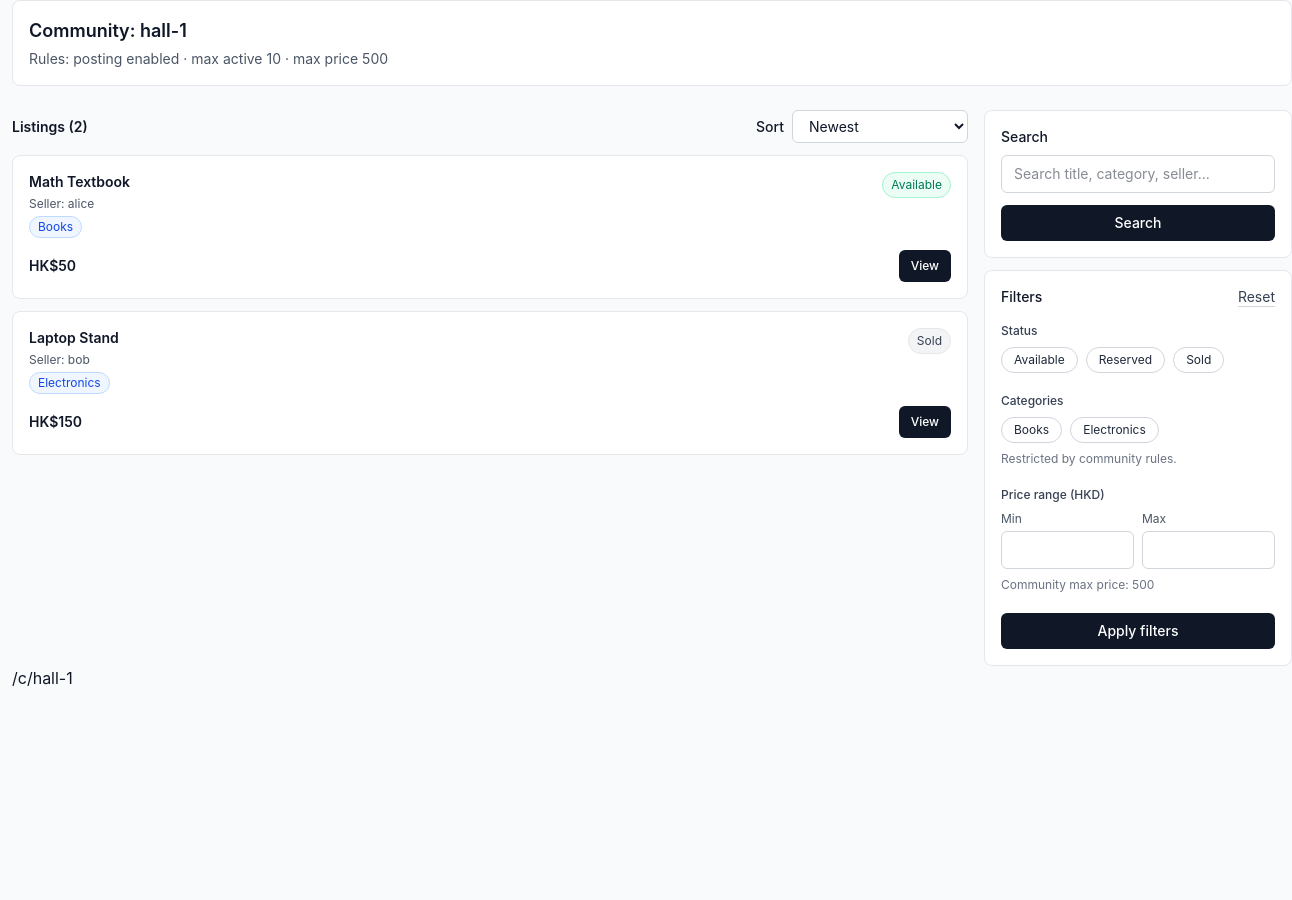
Test: HomePage › applies filters when Apply button clicked
Expected: the text "Math Textbook" is shown, [29,172,130,192]
Step 1. Type "100" into the number field labelled "Min" → (1068, 550), box [1001,531,1134,569]
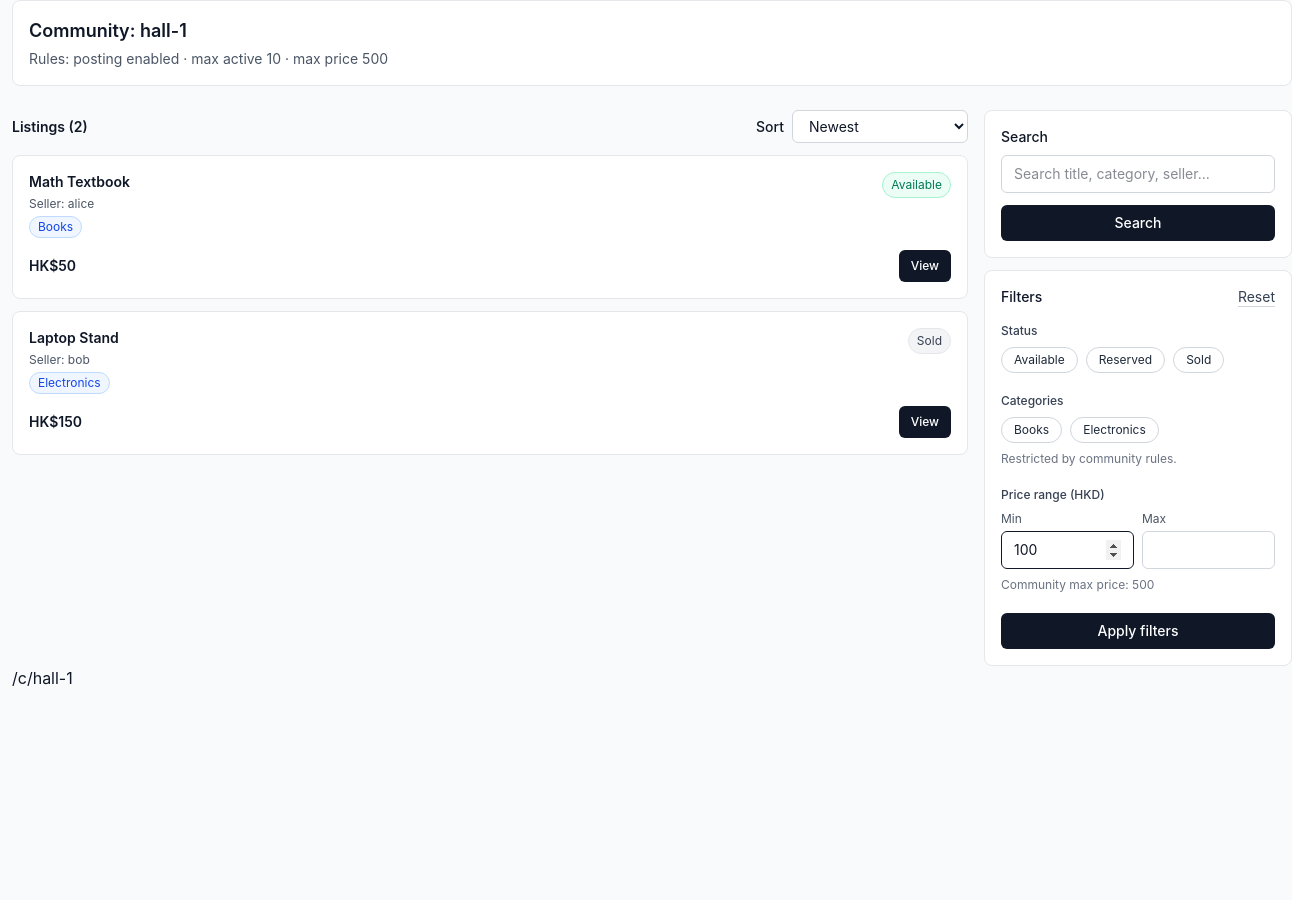
Step 2. Click the checkbox labelled "Available" → click(1039, 360), box [1001,347,1078,373]
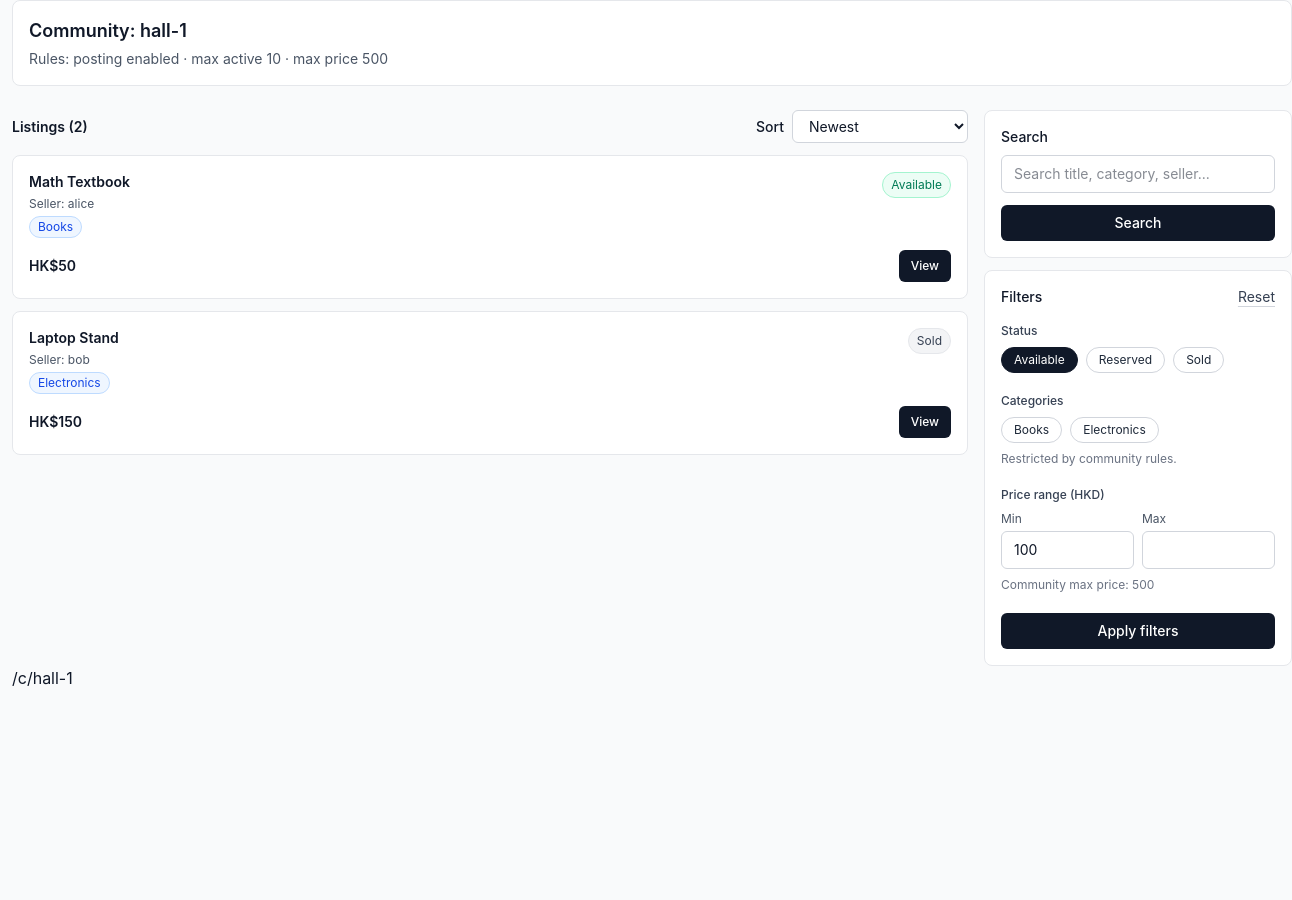
Step 3. Click the checkbox labelled "Books" → click(1032, 430), box [1001,417,1062,443]
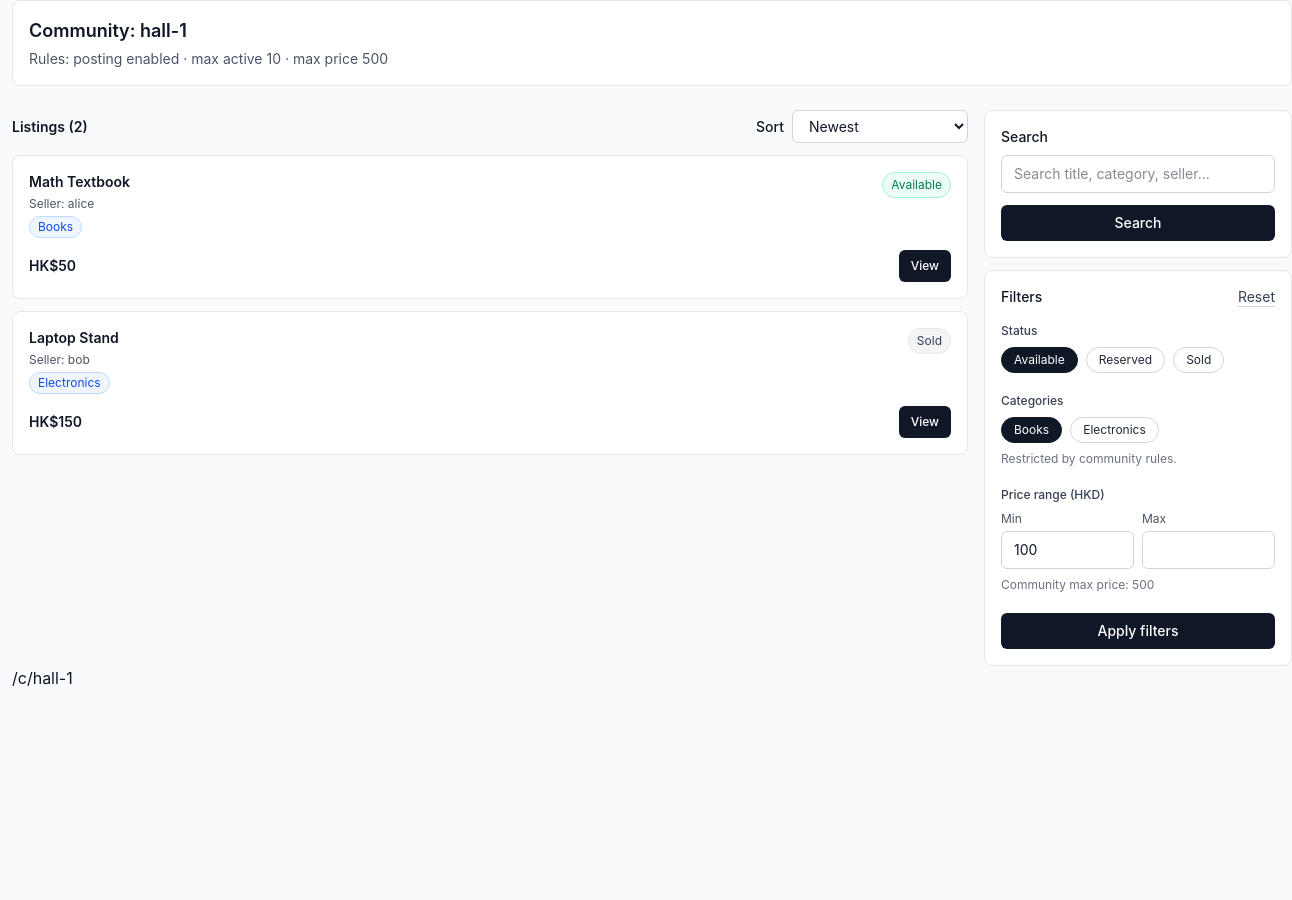
Step 4. Click the button "Apply filters" → click(1138, 631), box [1001,613,1275,649]
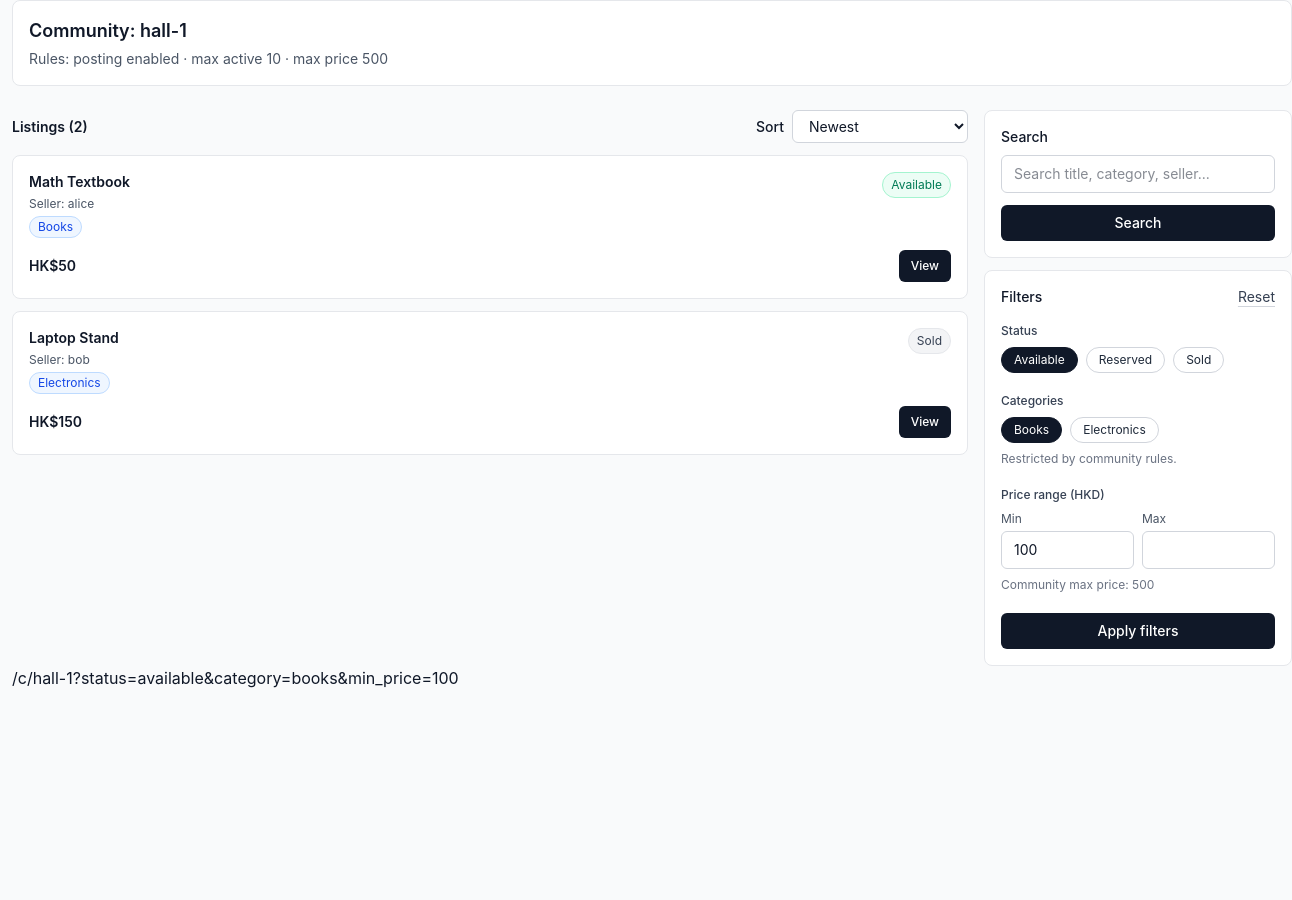
Expected: the text with test id "location" reads "/c/hall-1?status=available&category=books&min_price=100", [12,668,459,688]
